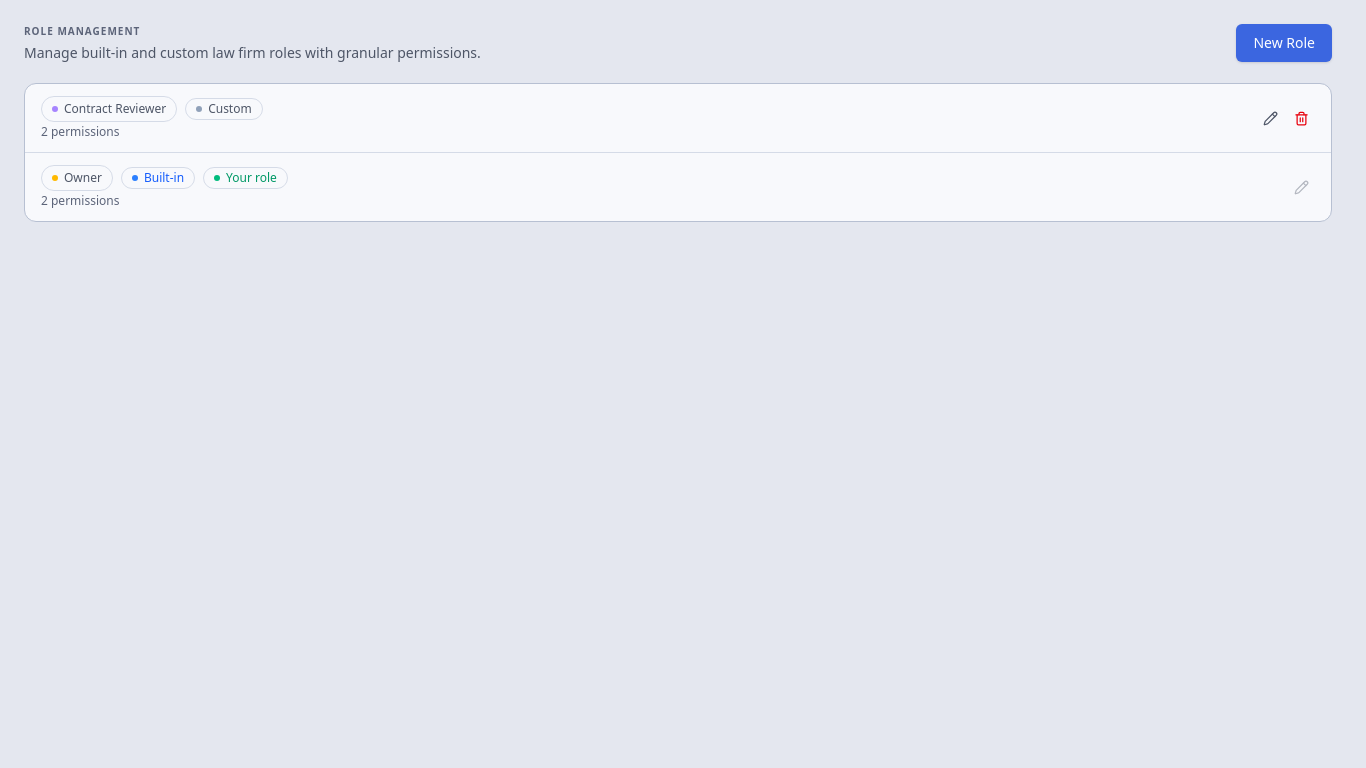
Test: a refused action › shows the server refusal and keeps the role in the list
expect the text "Contract Reviewer" is shown: met, box x1=41 y1=96 x2=177 y2=122
Click the 3rd button at (1302, 118), box x1=1288 y1=104 x2=1315 y2=132
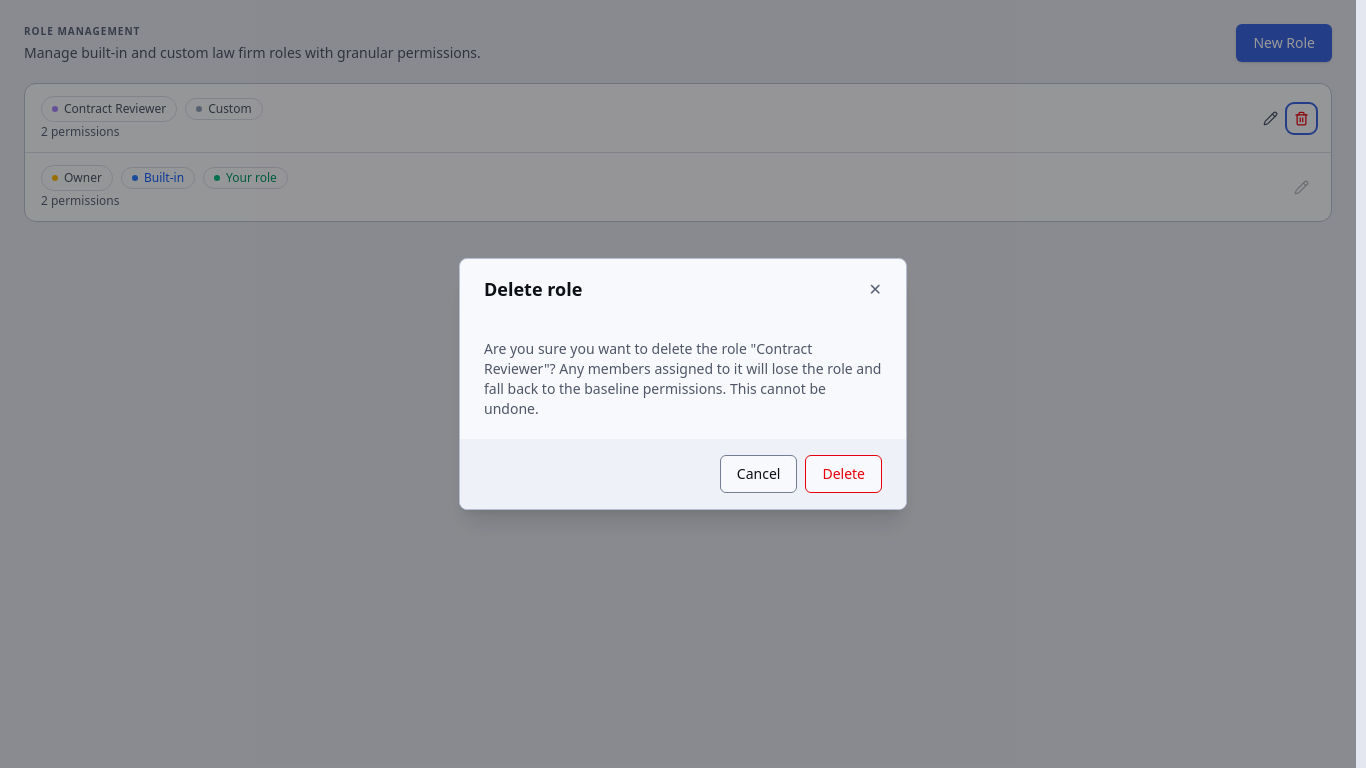
Click the button "Delete" at (844, 474), box x1=805 y1=455 x2=882 y2=493
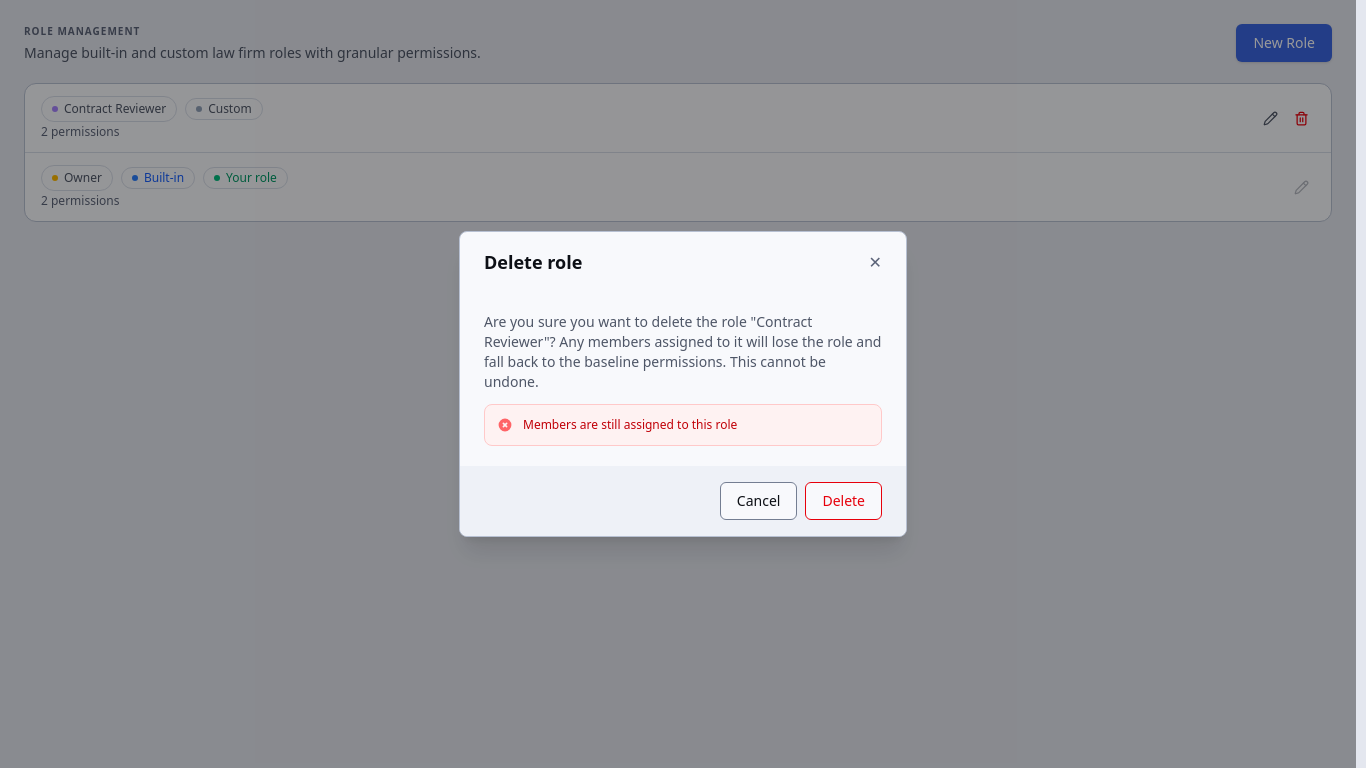
expect the text "Contract Reviewer" is shown: met, box x1=41 y1=96 x2=177 y2=122
expect the message reads "Members are still assigned to this role": met, box x1=523 y1=416 x2=737 y2=433
expect the number of messages is 1: met, box x1=484 y1=404 x2=882 y2=446
